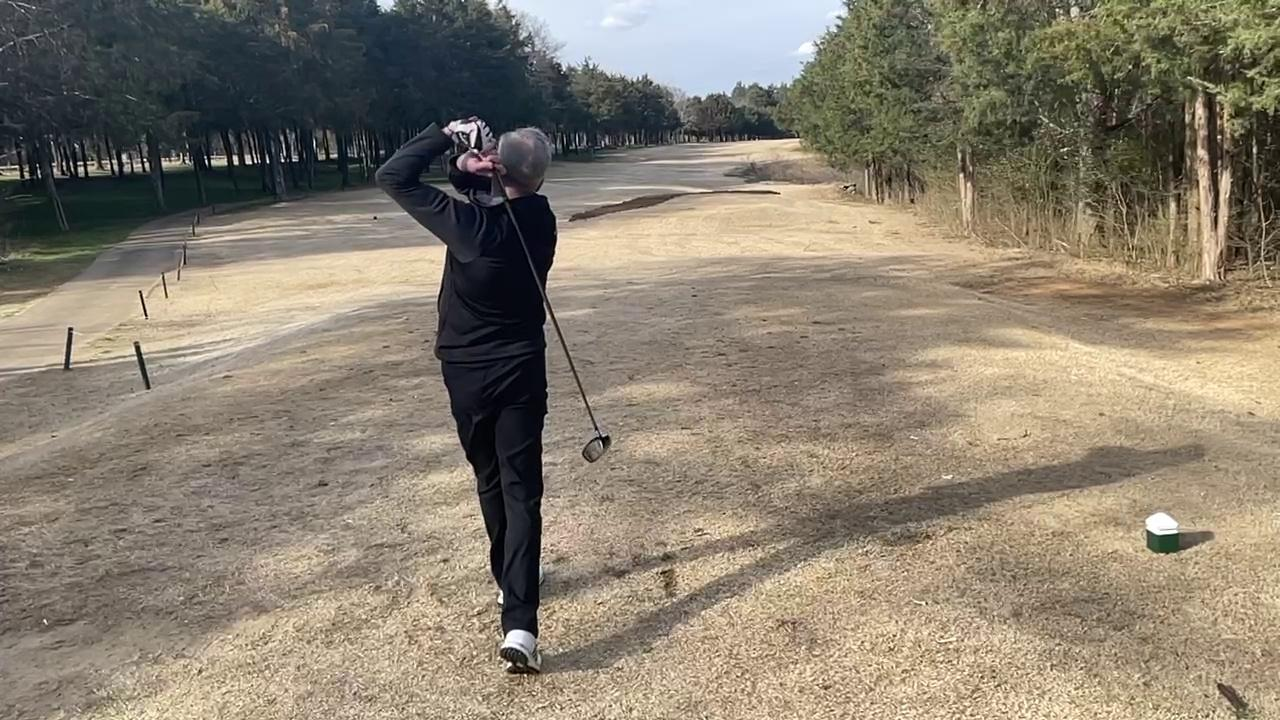ClubHead: (578, 424, 612, 467)
